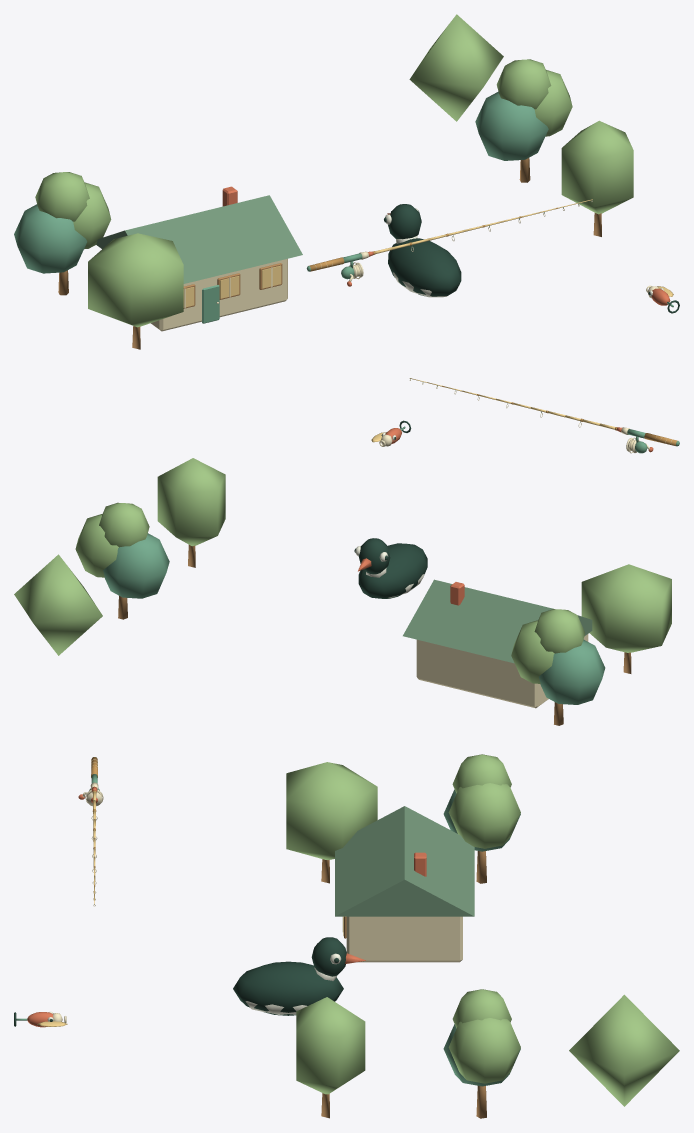
Rendered from cartoon-models.glb.
3 renders of one model, top to bottom at view 1: azimuth 30°, elevation 25°; view 2: azimuth 150°, elevation 25°; view 3: azimuth 270°, elevation 25°, orthographic. The views are drawn at different scales.
Visible parts, largest first — view 1: green pitched roof, rounded crown, rounded crown.001, distant crown, rounded crown 0, rounded crown 0.001, cream cottage walls, round loon body, rounded crown 2.001, rounded crown 2, rounded crown 1.001, rounded crown 1 (+2 smaller); view 2: green pitched roof, rounded crown, rounded crown.001, cream cottage walls, distant crown, rounded crown 0.001, rounded crown 0, round loon body, rounded crown 2, rounded crown 2.001, rounded crown 1, rounded crown 1.001 (+1 smaller); view 3: green pitched roof, rounded crown, distant crown, rounded crown.001, cream cottage walls, round loon body, rounded crown 1.001, rounded crown 1, rounded crown 2, rounded crown 2.001, loon head.
Boxes of the visible parts, x1,y1,x2,y2 form: green pitched roof: [96, 195, 302, 283]; rounded crown: [88, 233, 183, 327]; rounded crown.001: [561, 120, 633, 214]; distant crown: [409, 14, 503, 121]; rounded crown 0: [14, 204, 87, 273]; rounded crown 0.001: [475, 91, 548, 160]; cream cottage walls: [150, 258, 287, 331]; round loon body: [388, 238, 461, 296]; rounded crown 2.001: [496, 59, 551, 109]; rounded crown 2: [35, 172, 89, 221]; rounded crown 1.001: [534, 70, 572, 136]; rounded crown 1: [73, 182, 111, 249]; green pitched roof: [403, 579, 592, 663]; rounded crown: [581, 564, 671, 652]; rounded crown.001: [157, 458, 225, 546]; cream cottage walls: [416, 634, 588, 708]; distant crown: [14, 554, 102, 655]; rounded crown 0.001: [103, 533, 169, 598]; rounded crown 0: [539, 639, 605, 704]; round loon body: [358, 543, 427, 598]; rounded crown 2: [534, 609, 585, 653]; rounded crown 2.001: [99, 502, 149, 547]; rounded crown 1: [511, 620, 554, 683]; rounded crown 1.001: [75, 514, 118, 577]; green pitched roof: [335, 806, 474, 916]; rounded crown: [286, 762, 377, 859]; distant crown: [569, 994, 679, 1106]; rounded crown.001: [296, 997, 365, 1094]; cream cottage walls: [346, 916, 462, 962]; round loon body: [233, 961, 343, 1015]; rounded crown 1.001: [448, 1018, 520, 1083]; rounded crown 1: [448, 783, 520, 848]; rounded crown 2: [452, 754, 511, 793]; rounded crown 2.001: [452, 989, 511, 1028]; loon head: [311, 937, 346, 976].
Size of the model in its own units: 5.17 by 1.33 by 5.15.
